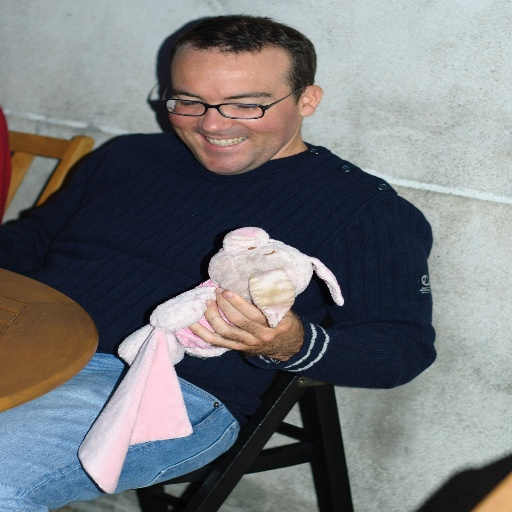hand: (163, 289, 289, 360)
